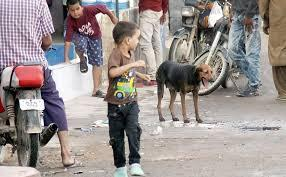normal_dogs: (159, 56, 221, 137)
